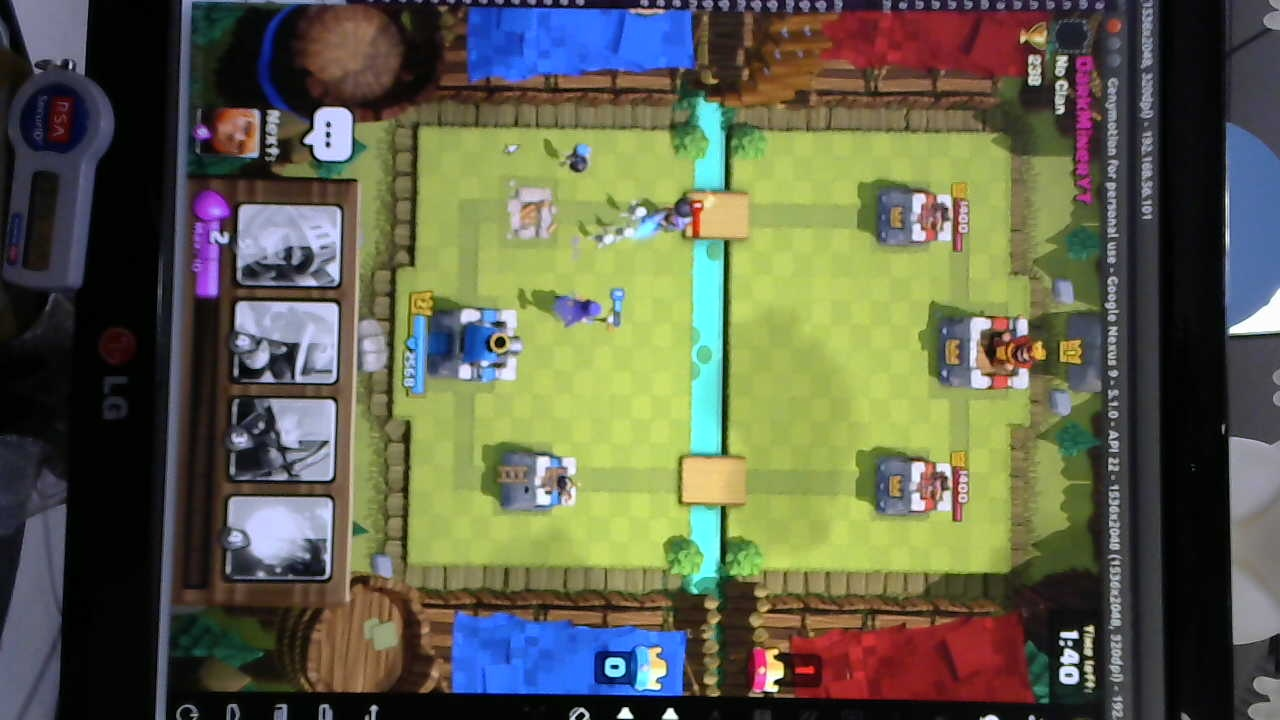arena: (499, 449, 580, 511)
bomb: (556, 142, 594, 179)
darena: (506, 182, 561, 246)
earena: (877, 453, 957, 521), (874, 189, 955, 249)
eking: (935, 312, 1043, 393)
king: (431, 302, 520, 383)
musketeer: (648, 203, 695, 238)
skeleton: (593, 200, 645, 250)
witch: (547, 295, 614, 328)
